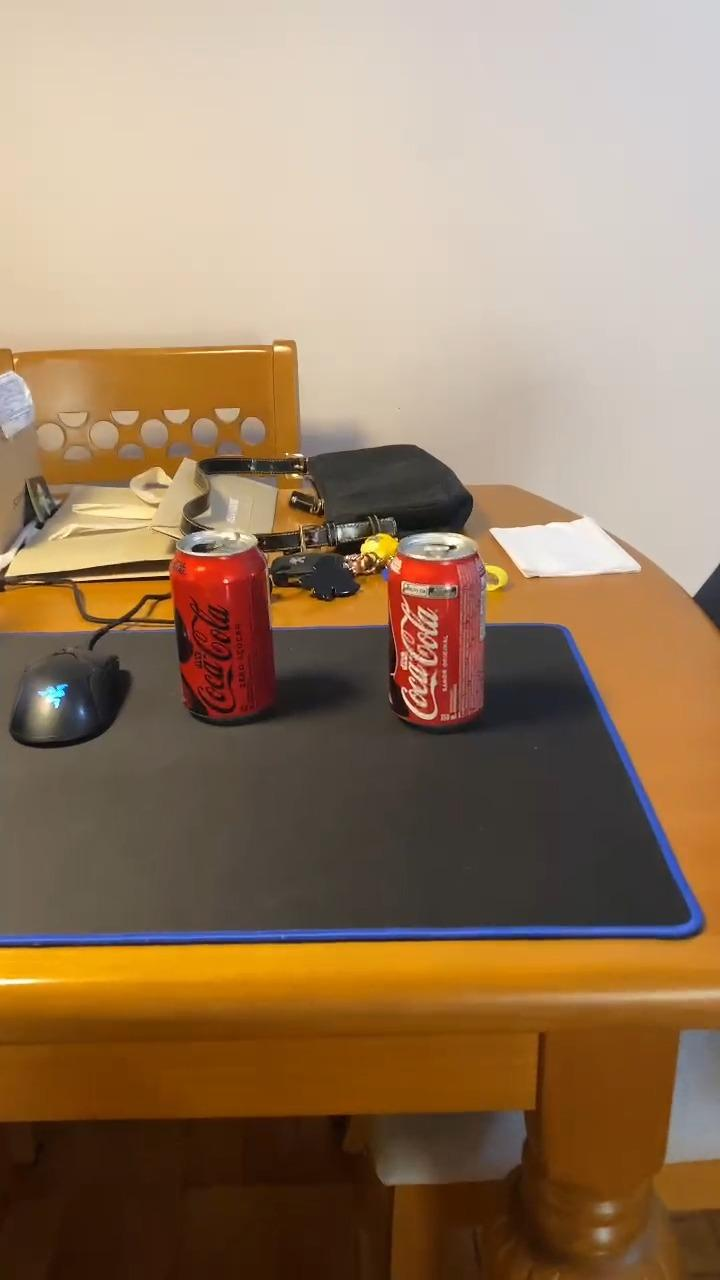coke: (168, 532, 276, 722), (384, 532, 488, 725)
